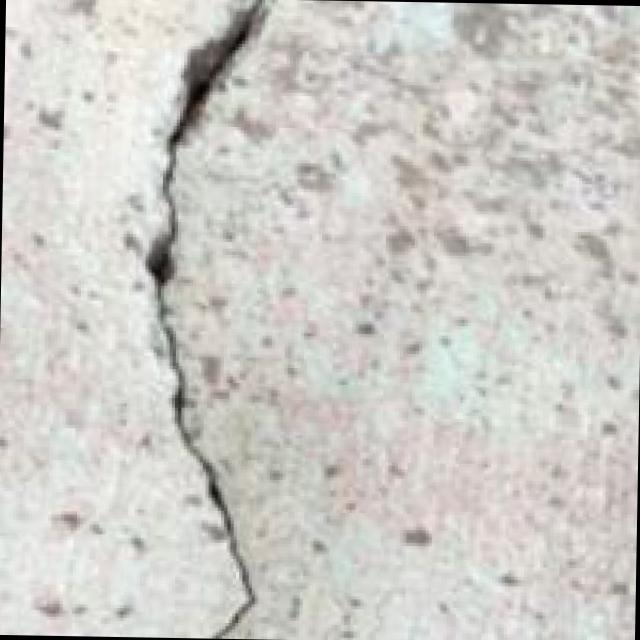crack: (106, 0, 312, 636)
